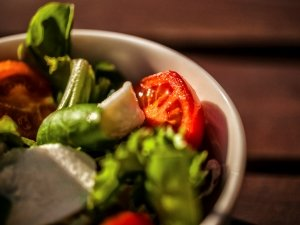sushi: (3, 27, 247, 225)
